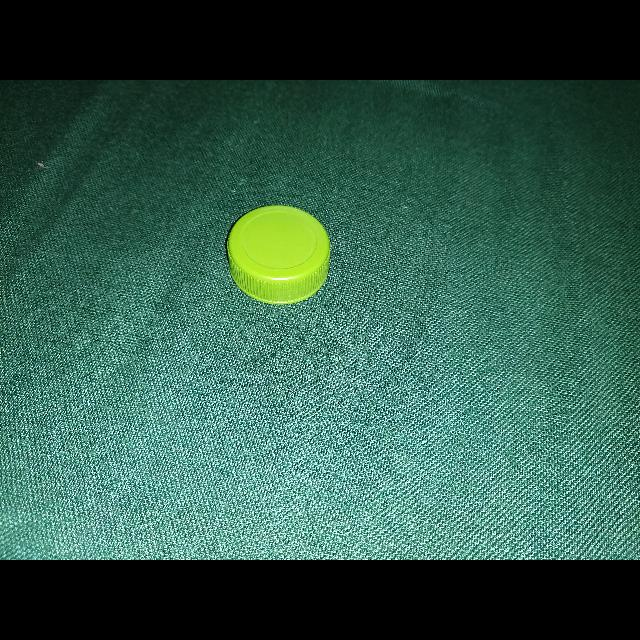plastic_bottle_cap: (227, 204, 331, 306)
